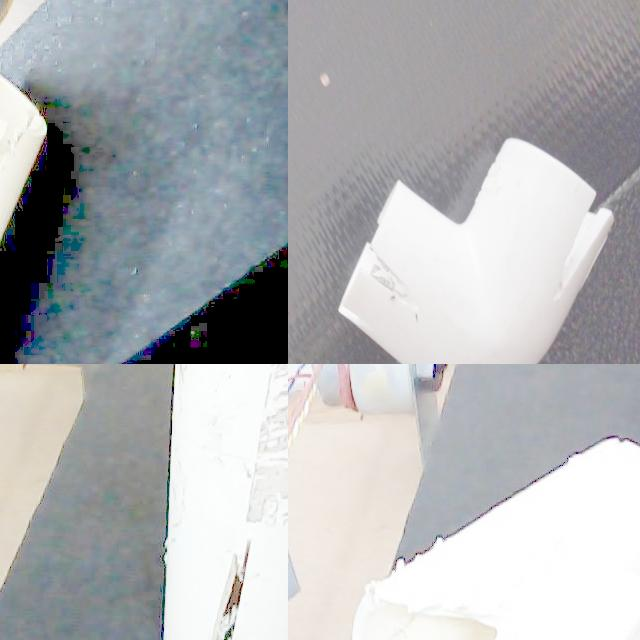Defective: (378, 583, 527, 640), (202, 509, 256, 640), (256, 364, 288, 553), (0, 104, 17, 279), (288, 38, 305, 96), (606, 428, 629, 460)
T Joint: (352, 438, 640, 640), (162, 364, 288, 640)
